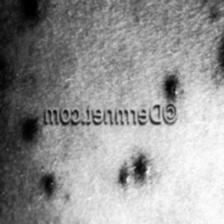Toxin: (118, 154, 154, 190), (22, 116, 44, 144), (27, 0, 50, 19), (166, 76, 183, 100)
